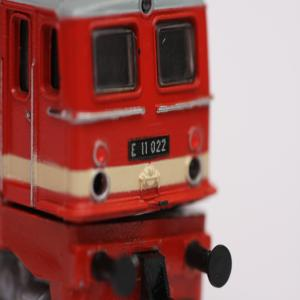Vehicle-registration-plate: (129, 136, 171, 162)
